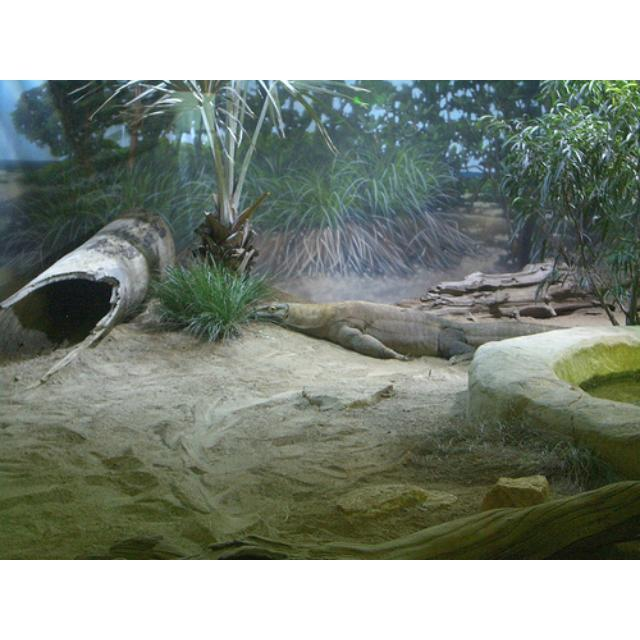KomodoDragon: (245, 293, 582, 363)
